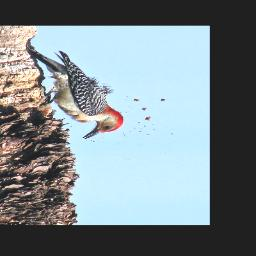Woodpecker: (24, 45, 125, 140)
